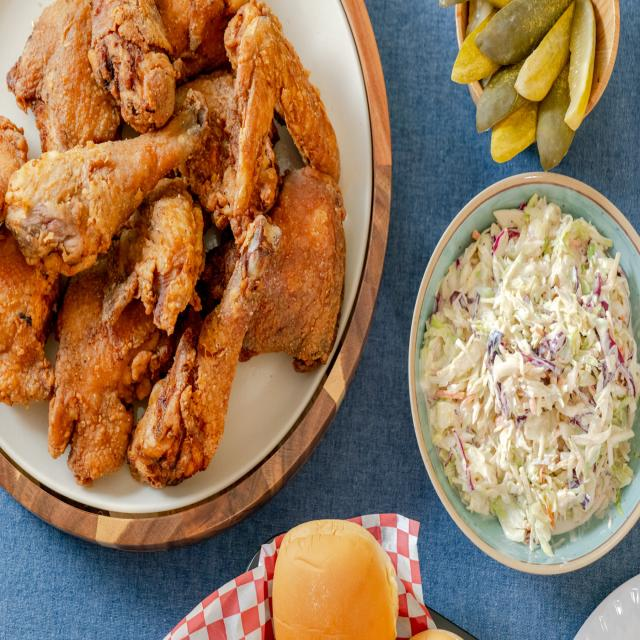Frango: (0, 0, 345, 485)
